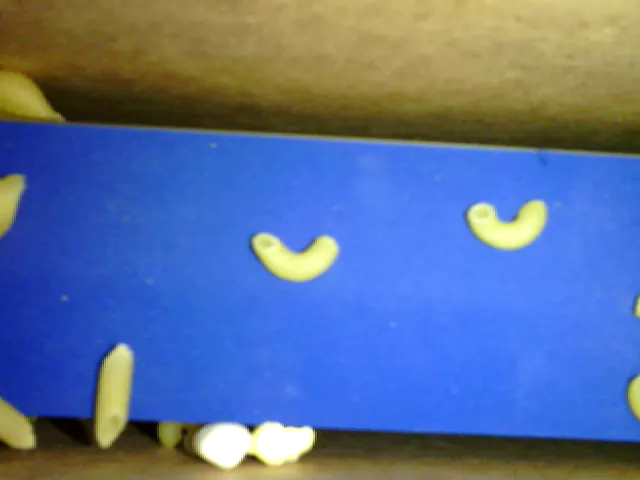elbow: (250, 229, 344, 285), (461, 198, 550, 251)
penne: (94, 341, 135, 453)
shell: (1, 70, 71, 126)
